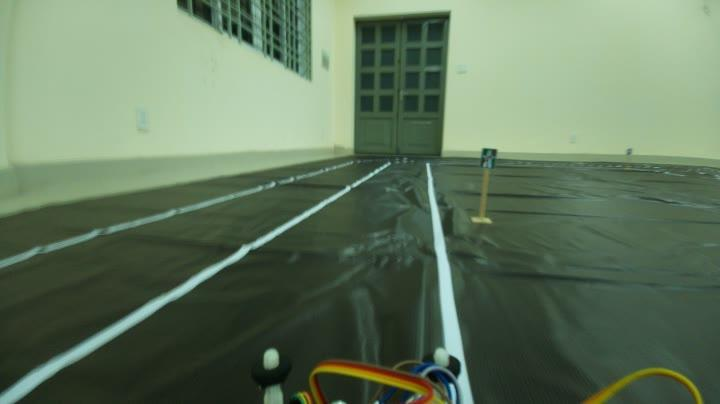highway_exit: (476, 138, 500, 174)
